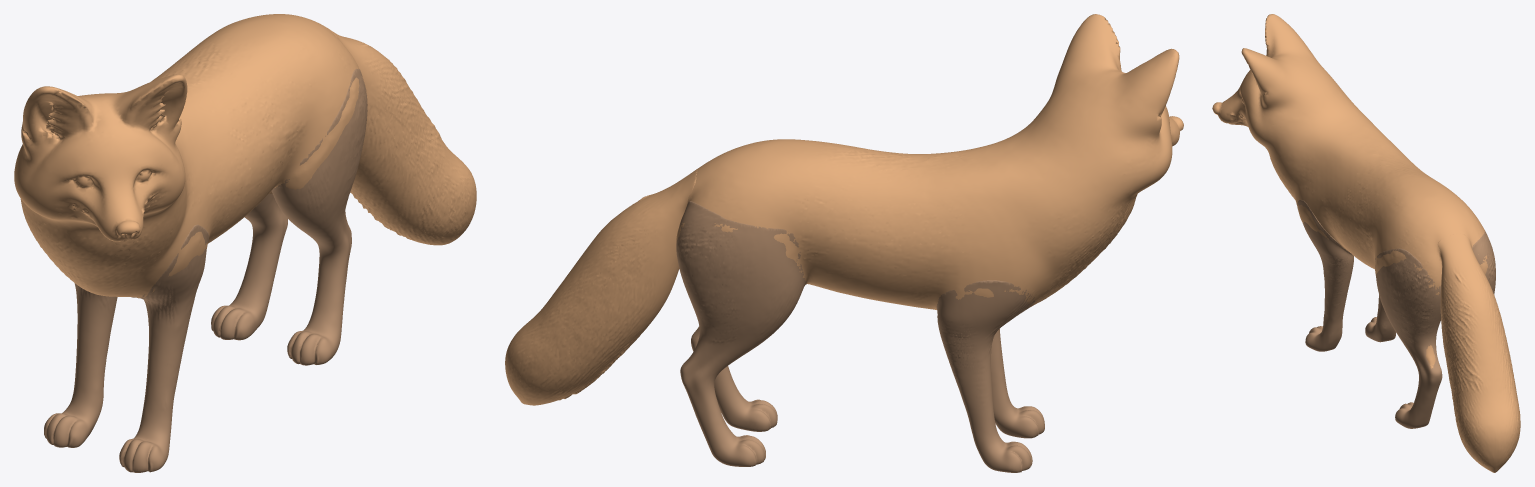
Rendered from fox-segmented-optimized.glb.
The picture shows the model from 3 angles, left to right: view 1: azimuth 30°, elevation 25°; view 2: azimuth 150°, elevation 25°; view 3: azimuth 270°, elevation 25°; orthographic projection. The views are drawn at different scales.
Visible parts, largest first — view 1: part_1, part_0, part_4, part_3, part_2, part_5; view 2: part_1, part_0, part_5, part_2, part_3, part_4; view 3: part_1, part_0, part_4, part_3, part_2, part_5.
Part boxes in pixels (x1,y1,x2,y2): part_1: (14,14,363,297); part_0: (328,28,476,245); part_4: (271,68,367,365); part_3: (119,224,209,472); part_2: (44,283,117,447); part_5: (211,193,287,340); part_1: (676,14,1183,329); part_0: (505,169,697,405); part_5: (676,201,806,466); part_2: (936,280,1035,472); part_3: (991,329,1044,438); part_4: (691,328,777,431); part_1: (1212,14,1488,368); part_0: (1437,233,1520,472); part_4: (1375,248,1442,428); part_3: (1297,200,1353,351); part_2: (1365,295,1395,342); part_5: (1472,231,1495,294).
Size of the model in its own units: 0.9405 by 0.6588 by 0.6361.
